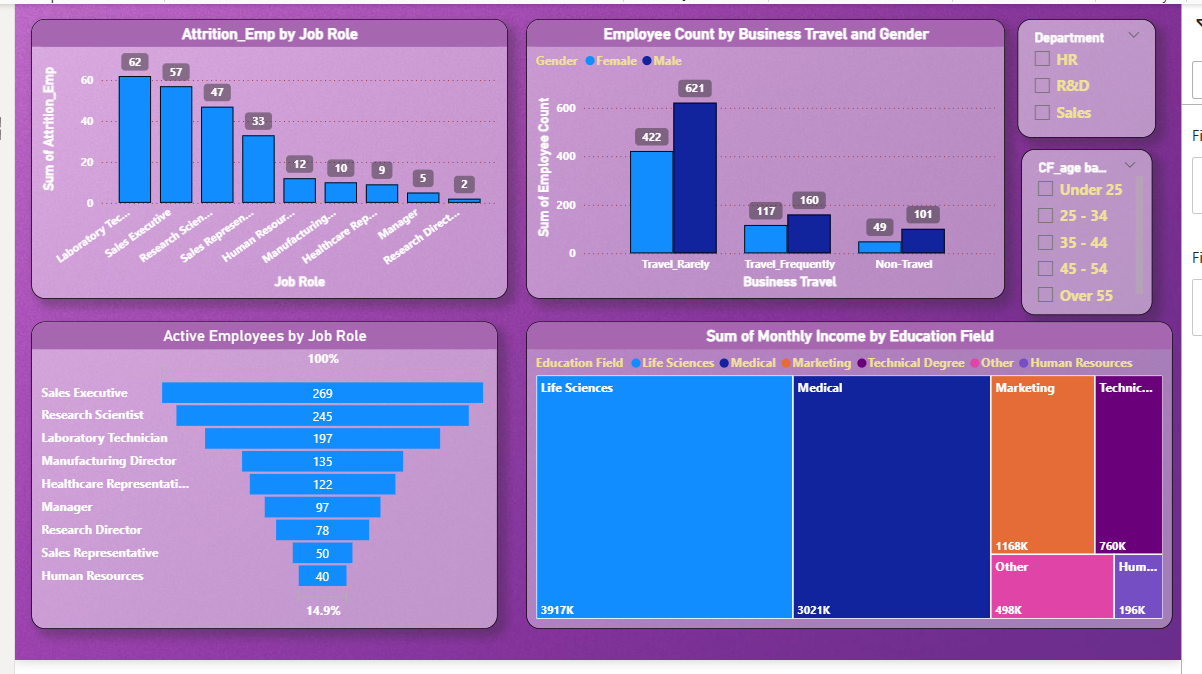

What the dashboard file says about the page in this screenshot:
{"tool":"powerbi","page":{"name":"Page 2","canvas":[1280,720],"ordinal":1},"visuals":[{"type":"funnel","title":"Active Employees by Job Role","fields":{"Y":["HR data.Active_Emp"],"Category":["HR data.Job Role"]},"box":[17.8,348.5,511.8,337.6],"z":0},{"type":"clusteredColumnChart","title":" Attrition_Emp by Job Role","fields":{"Category":["HR data.Job Role"],"Y":["Sum(HR data.Attrition_Emp)"]},"box":[17.8,16.5,522.8,307.4],"z":1000},{"type":"clusteredColumnChart","title":" Employee Count by Business Travel and Gender","fields":{"Y":["Sum(HR data.Employee Count)"],"Category":["HR data.Business Travel"],"Series":["HR data.Gender"]},"box":[561.2,16.5,525.6,307.4],"z":2000},{"type":"slicer","fields":{"Values":["HR data.Department"]},"box":[1100.5,16.5,152.3,130.4],"z":3000},{"type":"slicer","fields":{"Values":["HR data.CF_age band"]},"box":[1104.6,159.2,144.1,182.5],"z":4000},{"type":"treemap","fields":{"Group":["HR data.Education Field"],"Values":["Sum(HR data.Monthly Income)"]},"box":[561.2,348.5,709.4,337.6],"z":5000}]}

Visuals, with their boxes in screenshot pixels (x1, y1, x2, y2), scaled from the page's 1280x720 canvas onto the 1202x674 screenshot:
"Active Employees by Job Role" funnel: [17, 326, 497, 642]
" Attrition_Emp by Job Role" clusteredColumnChart: [17, 15, 508, 303]
" Employee Count by Business Travel and Gender" clusteredColumnChart: [527, 15, 1021, 303]
slicer - HR data.Department: [1033, 15, 1176, 138]
slicer - HR data.CF_age band: [1037, 149, 1173, 320]
treemap - HR data.Education Field x Sum(HR data.Monthly Income): [527, 326, 1193, 642]
